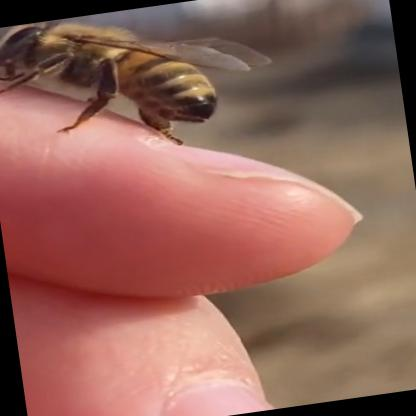bee: (0, 0, 315, 205)
